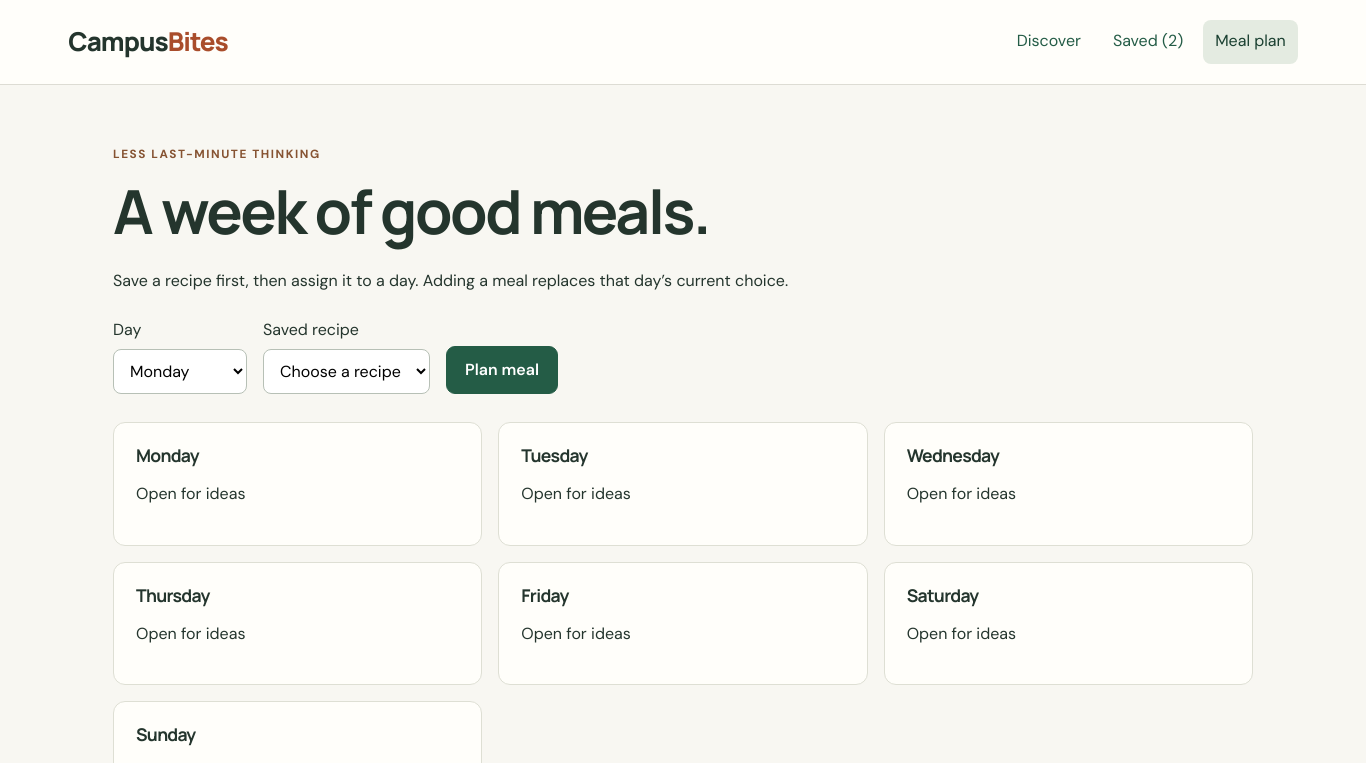
plan creates, replaces and removes meals without duplicating a day
Later steps or results of the test are not shown.
Select "Student Pasta" in the dropdown labelled "Saved recipe" at (346, 371), box [263, 349, 430, 394]
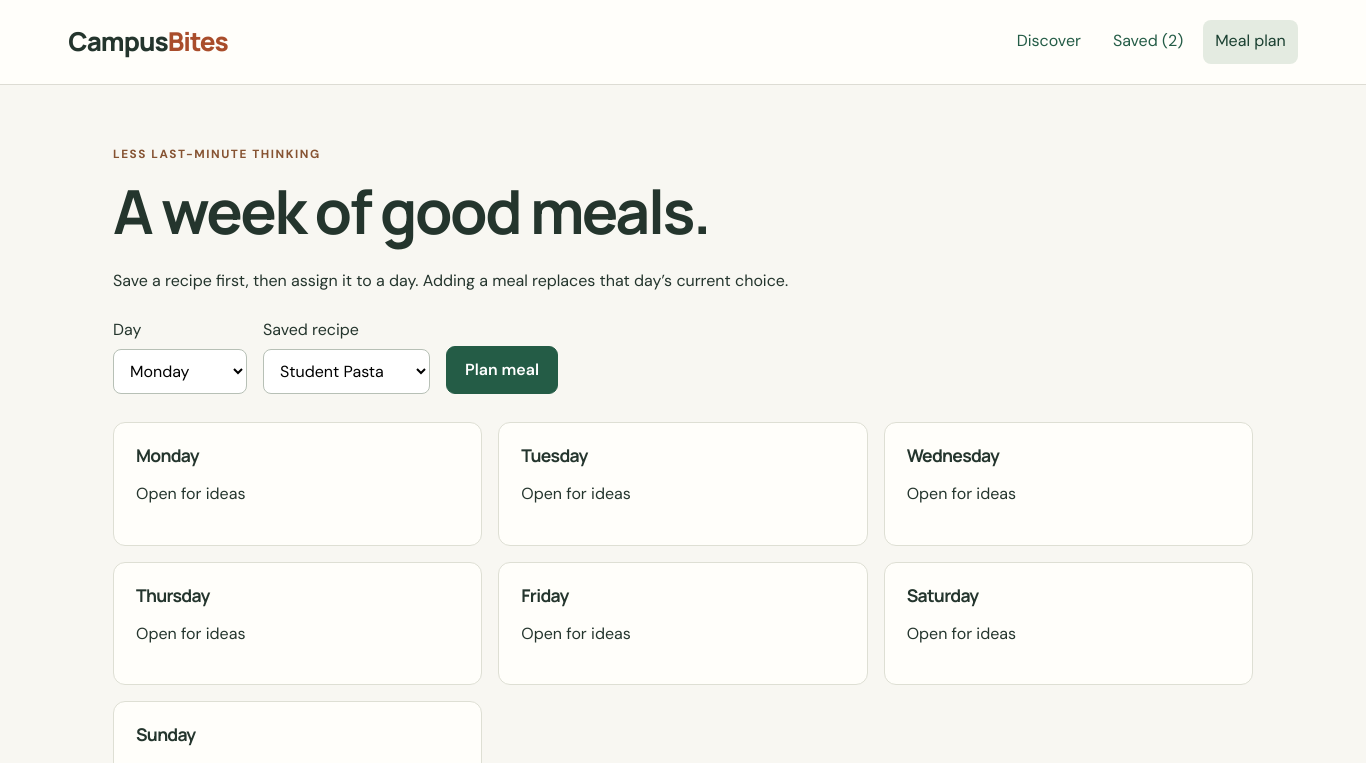
Click the button "Plan meal" at (502, 370), box [446, 346, 558, 394]
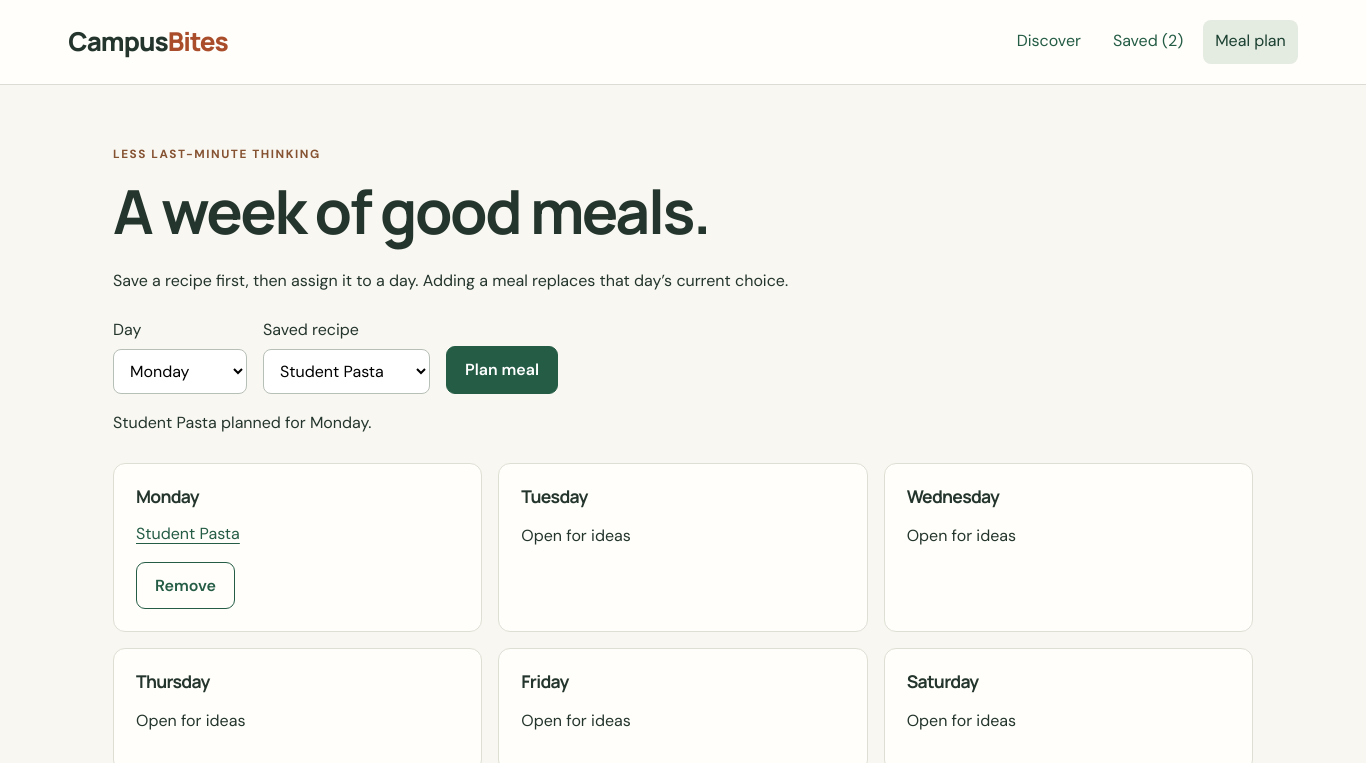
Result: the message shows "Student Pasta planned for Monday" at [113, 412, 372, 433]
Select "Soup" in the dropdown labelled "Saved recipe" at (346, 371), box [263, 349, 430, 394]
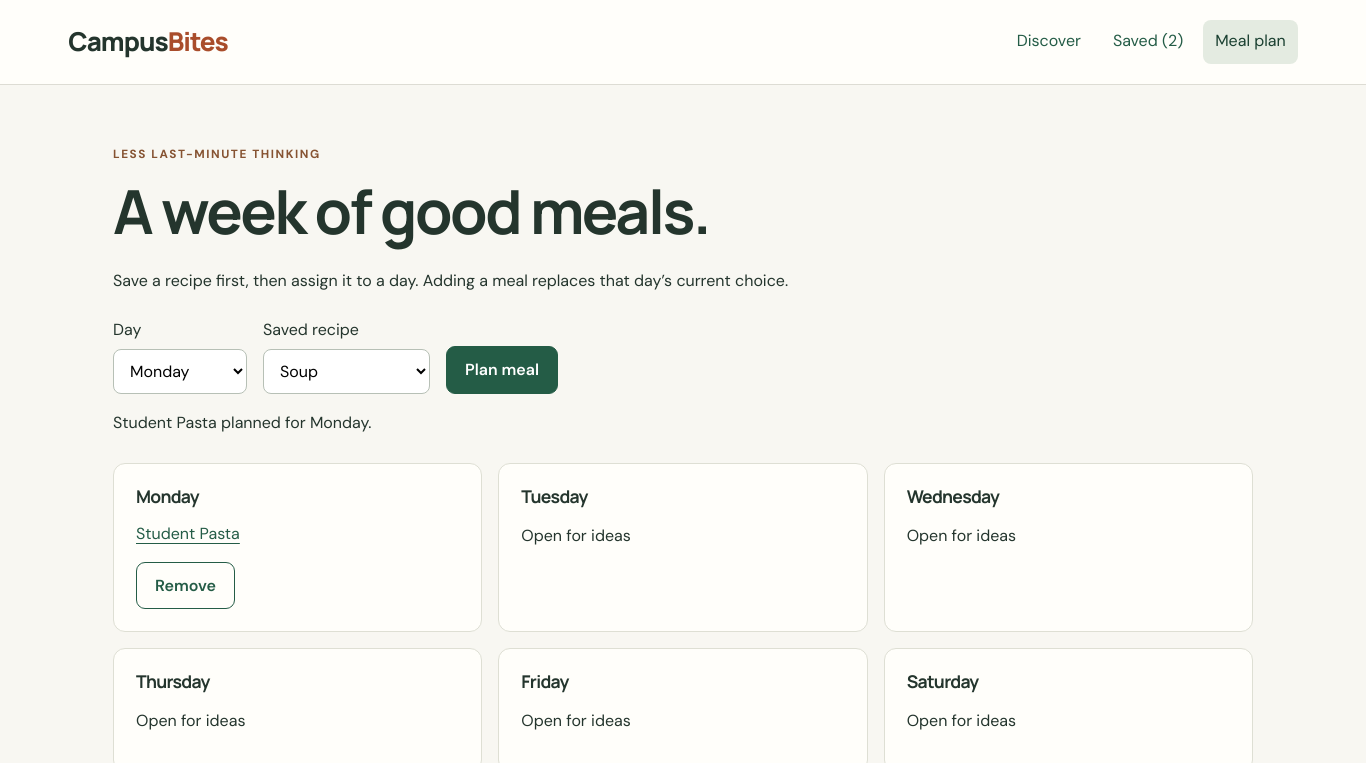
Click the button "Plan meal" at (502, 370), box [446, 346, 558, 394]
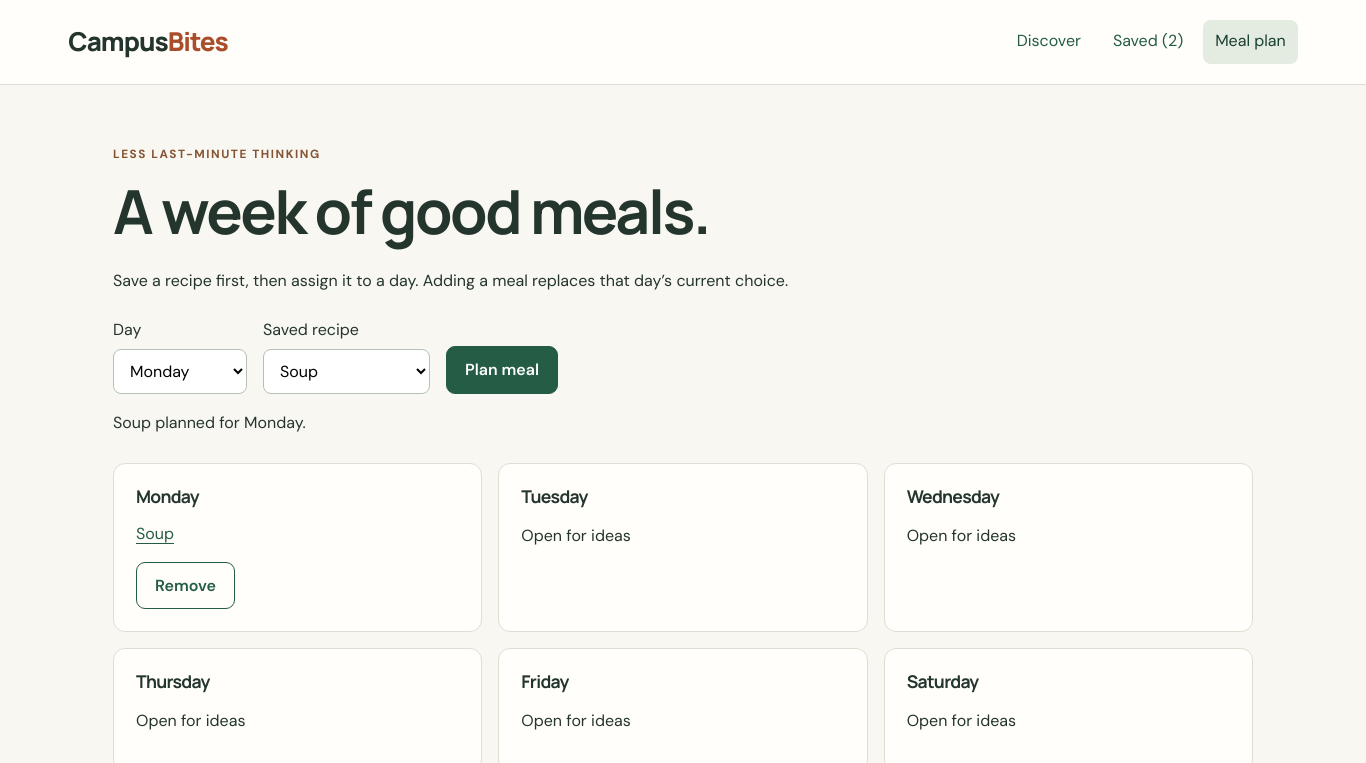
Result: the link "Soup" is shown at [136, 523, 174, 544]
